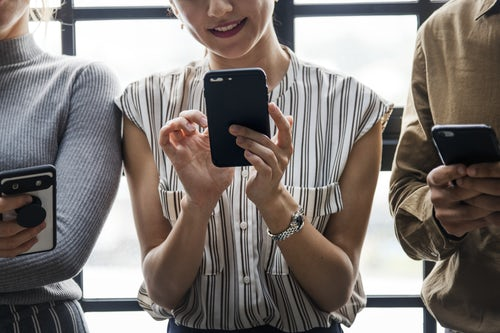phone: (202, 70, 277, 170), (1, 160, 59, 260), (432, 122, 500, 192)
